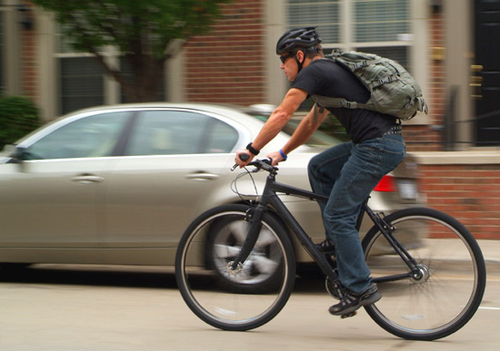bikerider: (164, 20, 492, 341)
